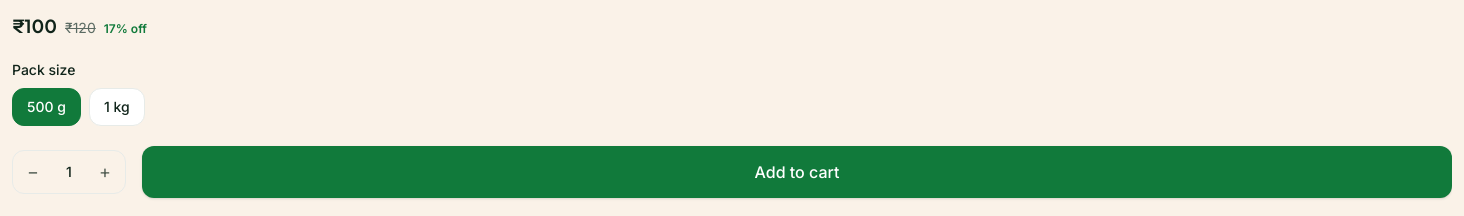
Test: ProductPurchasePanel › renders a pack-size selector and switches price on click for multiple variants
The image size is (1464, 216).
Expected: the text "₹100" is shown, [12,12,57,40]
Click the button "1 kg" at (117, 107), box [89,88,145,126]
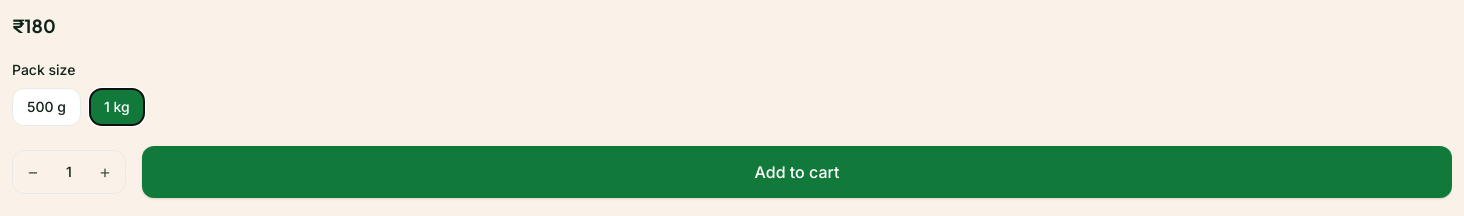
Expected: the text "₹180" is shown, [12,12,56,40]
